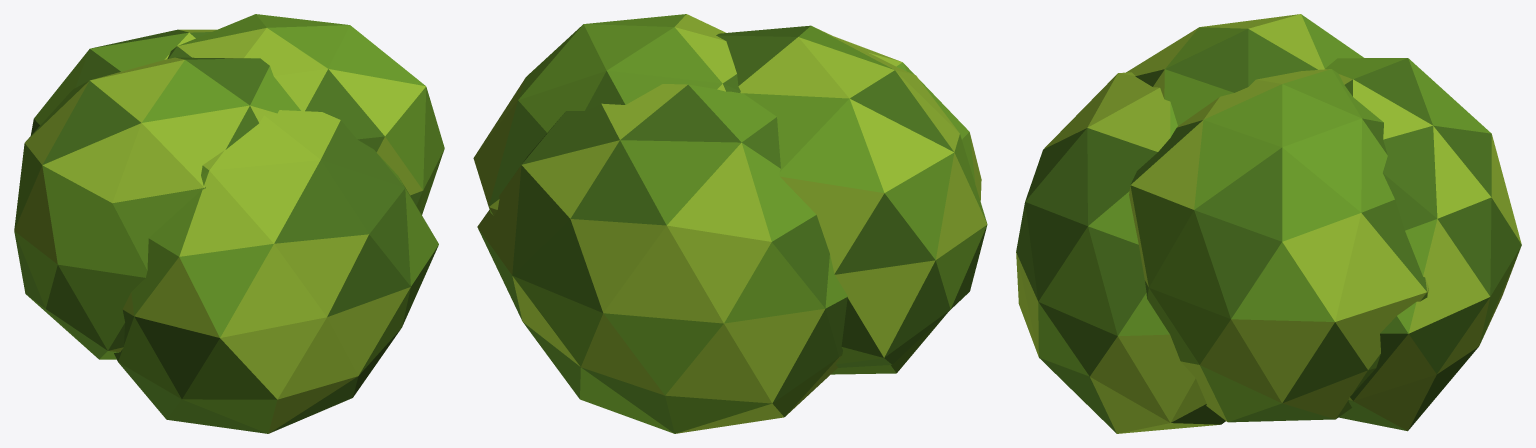
Rendered from kit_shrub.glb.
3 views of the same model, side by side, from view 1: azimuth 30°, elevation 25°; view 2: azimuth 150°, elevation 25°; view 3: azimuth 270°, elevation 25° (orthographic). The views are drawn at different scales.
Parts seen in each view (by area): view 1: Leaf cluster, Leaf cluster.002, Leaf cluster.001, Leaf cluster.003; view 2: Leaf cluster.003, Leaf cluster.002, Leaf cluster.001, Leaf cluster; view 3: Leaf cluster.001, Leaf cluster, Leaf cluster.003, Leaf cluster.002.
Boxes of the visible parts, x1,y1,x2,y2 form: Leaf cluster: (114,110,438,433); Leaf cluster.002: (14,57,300,359); Leaf cluster.001: (167,14,444,214); Leaf cluster.003: (30,29,216,135); Leaf cluster.003: (477,84,847,433); Leaf cluster.002: (716,25,987,367); Leaf cluster.001: (473,14,740,215); Leaf cluster: (831,36,981,374); Leaf cluster.001: (1129,69,1428,422); Leaf cluster: (1016,72,1225,433); Leaf cluster.003: (1325,58,1521,431); Leaf cluster.002: (1126,14,1363,125).
Size of the model in its own units: 0.7984 by 0.6374 by 0.7898.
